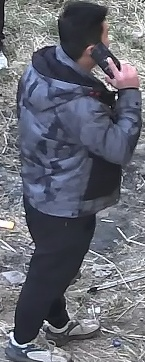phone: (30, 0, 144, 167)
